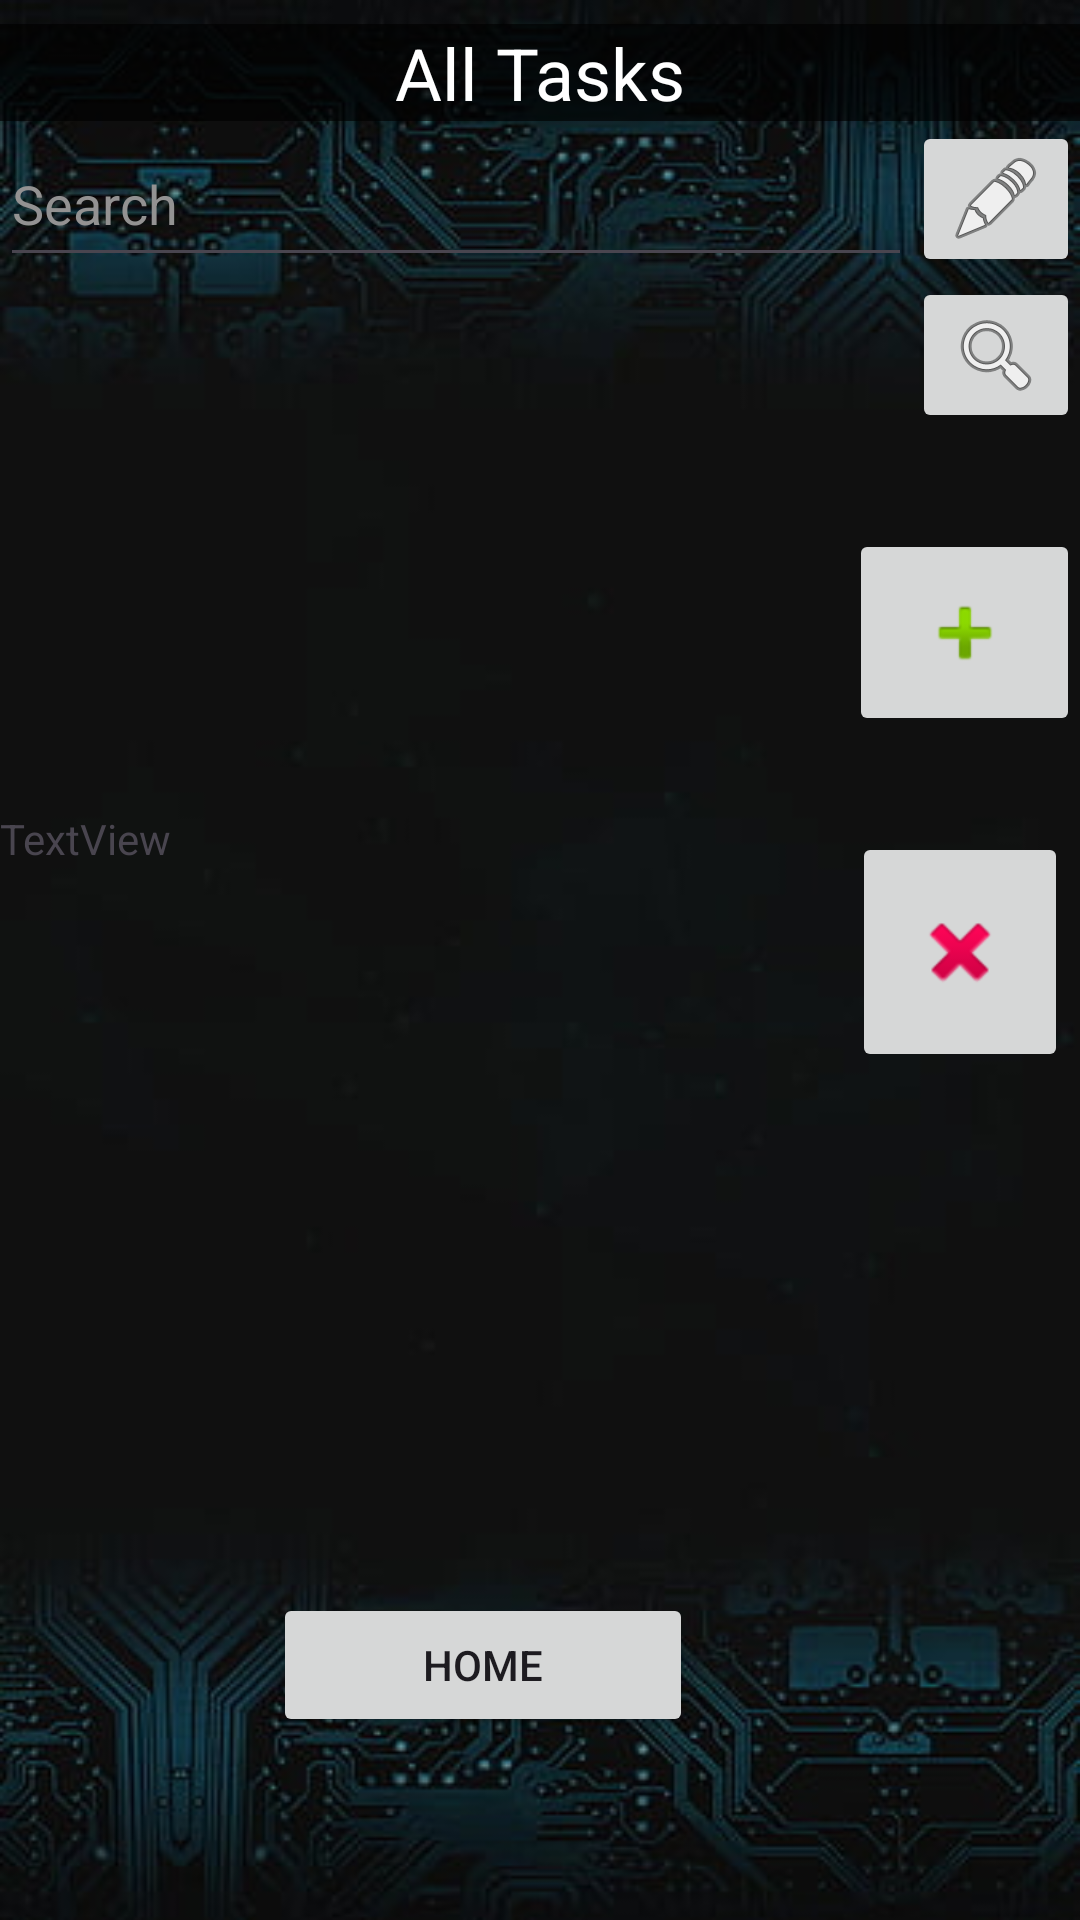

Point at icon controls on the screen. Image size 1080×1920, points as [x,y].
Add a new task: [964,632]
Delete selected task: [960,952]
Edit task details: [996,199]
